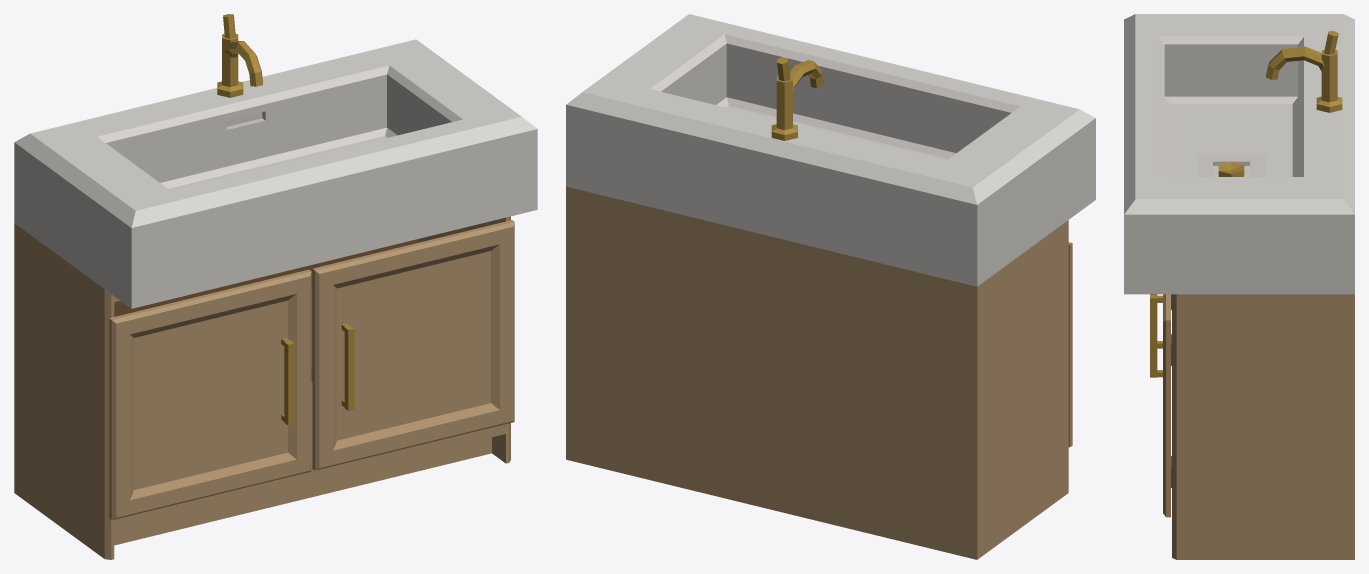
The model's file is vanity-basin-unit-3becd9.glb.
3 views of the same model, side by side, from view 1: azimuth 30°, elevation 25°; view 2: azimuth 150°, elevation 25°; view 3: azimuth 270°, elevation 25° (orthographic). The views are drawn at different scales.
Parts seen in each view (by area): view 1: vanity-basin-unit, door-r, door-l, tap; view 2: vanity-basin-unit, tap, door-l; view 3: vanity-basin-unit, door-r, tap.
Boxes of the visible parts, bbox=[...] form: vanity-basin-unit: bbox=[14, 39, 537, 559]; door-r: bbox=[312, 220, 514, 470]; door-l: bbox=[109, 269, 311, 520]; tap: bbox=[222, 34, 262, 87]; vanity-basin-unit: bbox=[566, 14, 1095, 559]; tap: bbox=[776, 60, 823, 130]; door-l: bbox=[1068, 242, 1072, 447]; vanity-basin-unit: bbox=[1124, 14, 1354, 559]; door-r: bbox=[1150, 294, 1171, 517]; tap: bbox=[1266, 46, 1337, 102].
Bounding box in the file's own units: 1 × 1.03 × 0.5.
